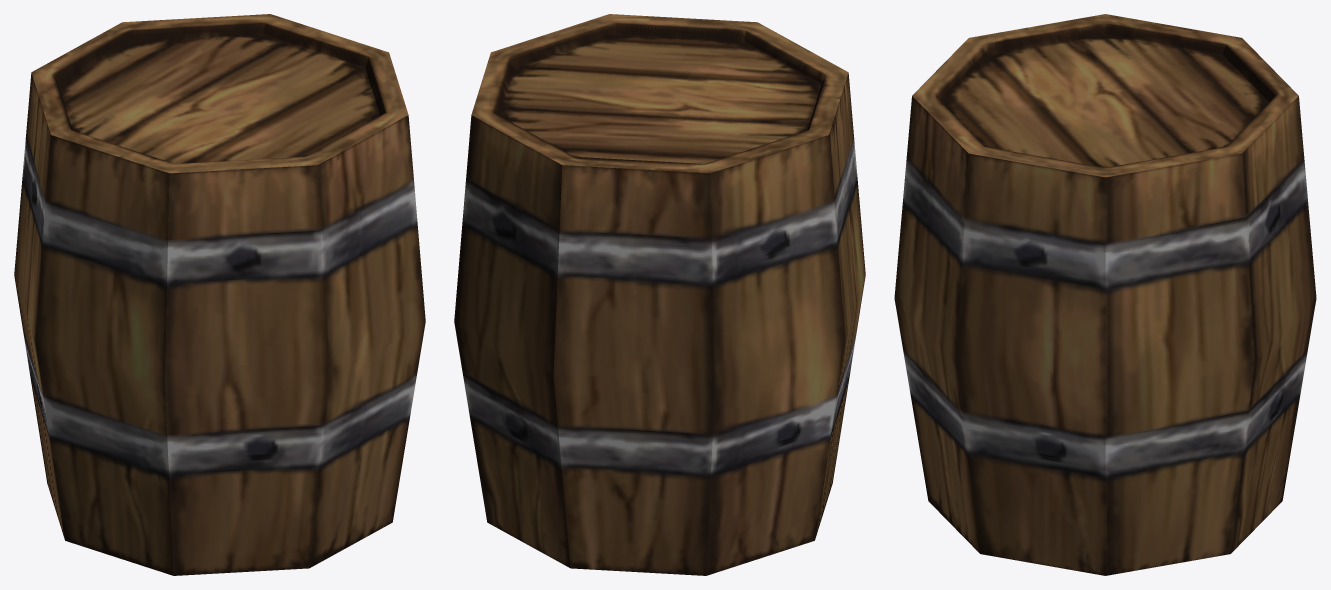
Rendered from fanasty_mod_barrel.fbx.
The picture shows the model from 3 angles, left to right: view 1: azimuth 30°, elevation 25°; view 2: azimuth 150°, elevation 25°; view 3: azimuth 270°, elevation 25°; orthographic projection.
Parts seen in each view (by area): view 1: barrel; view 2: barrel; view 3: barrel.
Boxes of the visible parts, box(x1,y1,x2,y2) form: barrel: box(14, 14, 425, 575); barrel: box(454, 14, 865, 575); barrel: box(894, 14, 1316, 575).
Size of the model in its own units: 1.15 by 1.22 by 1.15.
